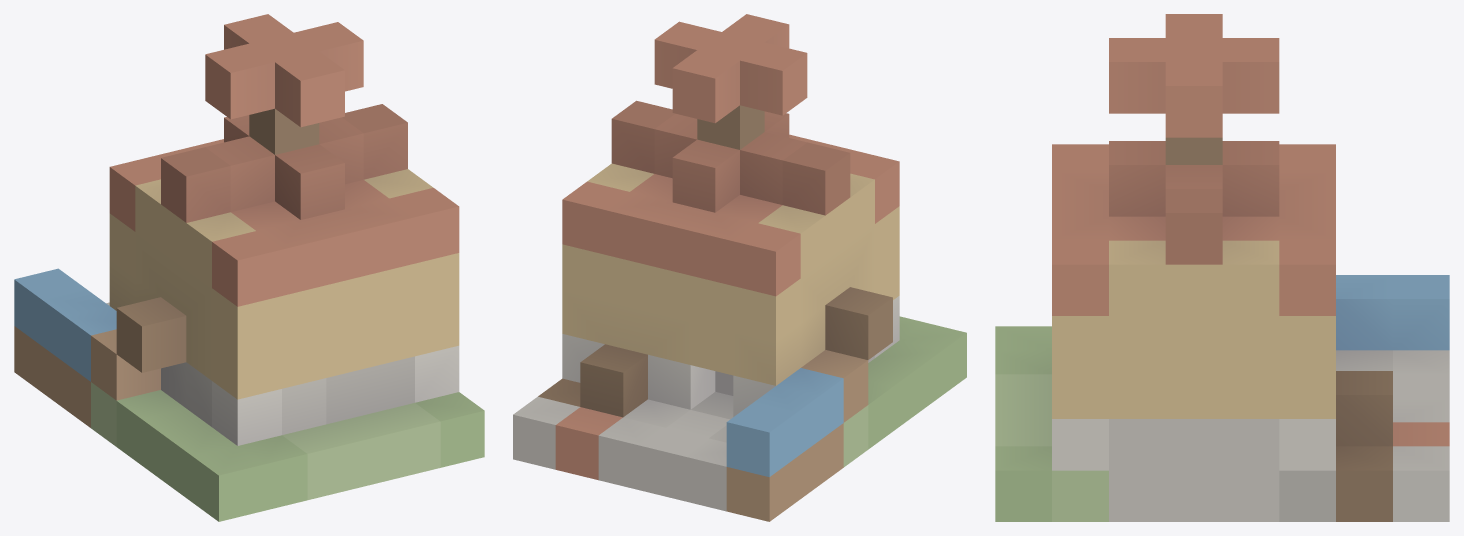
File: fire_station.lite.glb
The picture shows the model from 3 angles, left to right: view 1: azimuth 30°, elevation 25°; view 2: azimuth 150°, elevation 25°; view 3: azimuth 270°, elevation 25°; orthographic projection. The views are drawn at different scales.
Visible parts, largest first — view 1: fire_station; view 2: fire_station; view 3: fire_station.
Part boxes in pixels (bbox=[...]): fire_station: bbox=[14, 14, 484, 521]; fire_station: bbox=[513, 14, 966, 521]; fire_station: bbox=[995, 14, 1449, 521].
Size of the model in its own units: 3 by 4 by 4.
